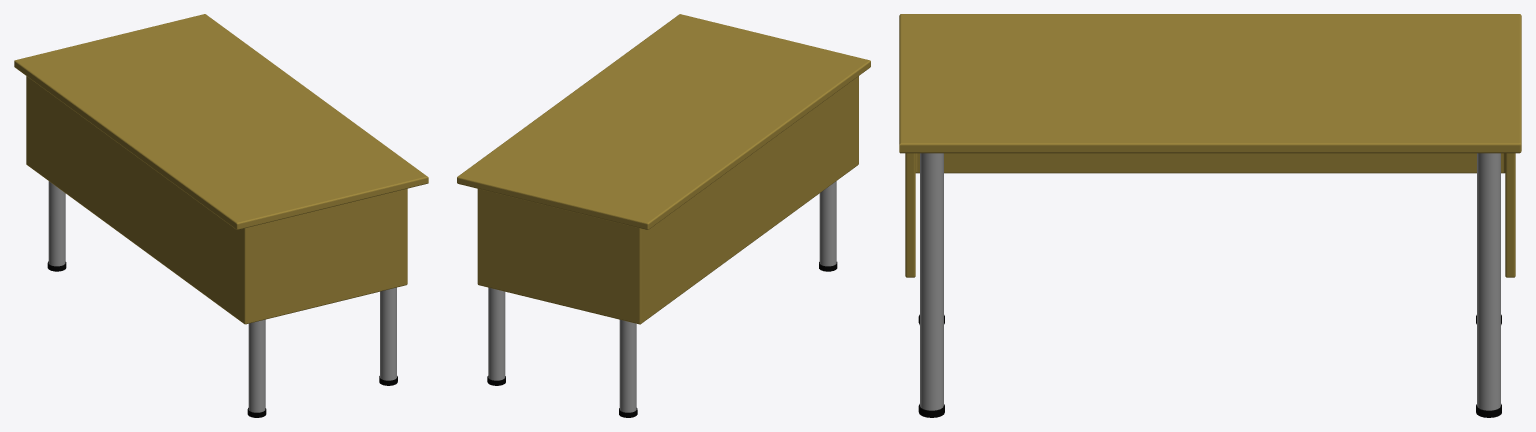
The model's file is Стол.fbx.
The picture shows the model from 3 angles, left to right: view 1: azimuth 30°, elevation 25°; view 2: azimuth 150°, elevation 25°; view 3: azimuth 270°, elevation 25°; orthographic projection. The views are drawn at different scales.
Parts seen in each view (by area): view 1: Cylinder.001; view 2: Cylinder.001; view 3: Cylinder.001.
Part boxes in pixels (<box>): Cylinder.001: <box>14,14,428,417</box>; Cylinder.001: <box>457,14,870,417</box>; Cylinder.001: <box>899,14,1521,417</box>.
Bounding box in the file's own units: 200 × 206 × 403.
